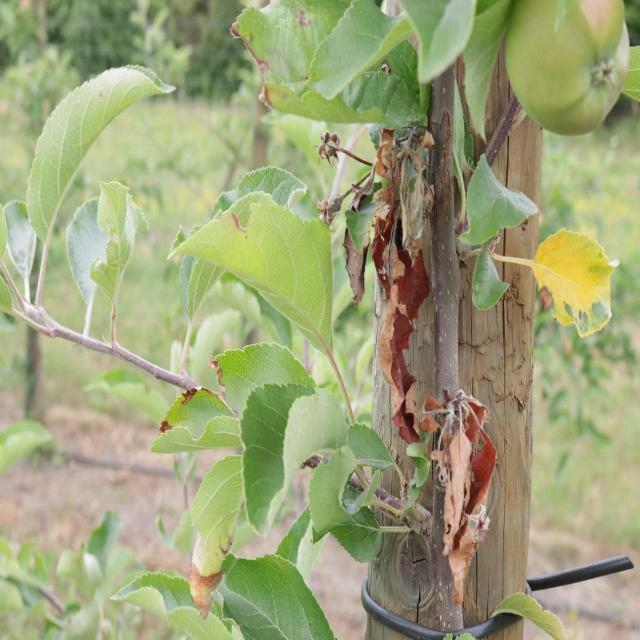-FireBlight-: (324, 136, 428, 432), (425, 394, 501, 630)
